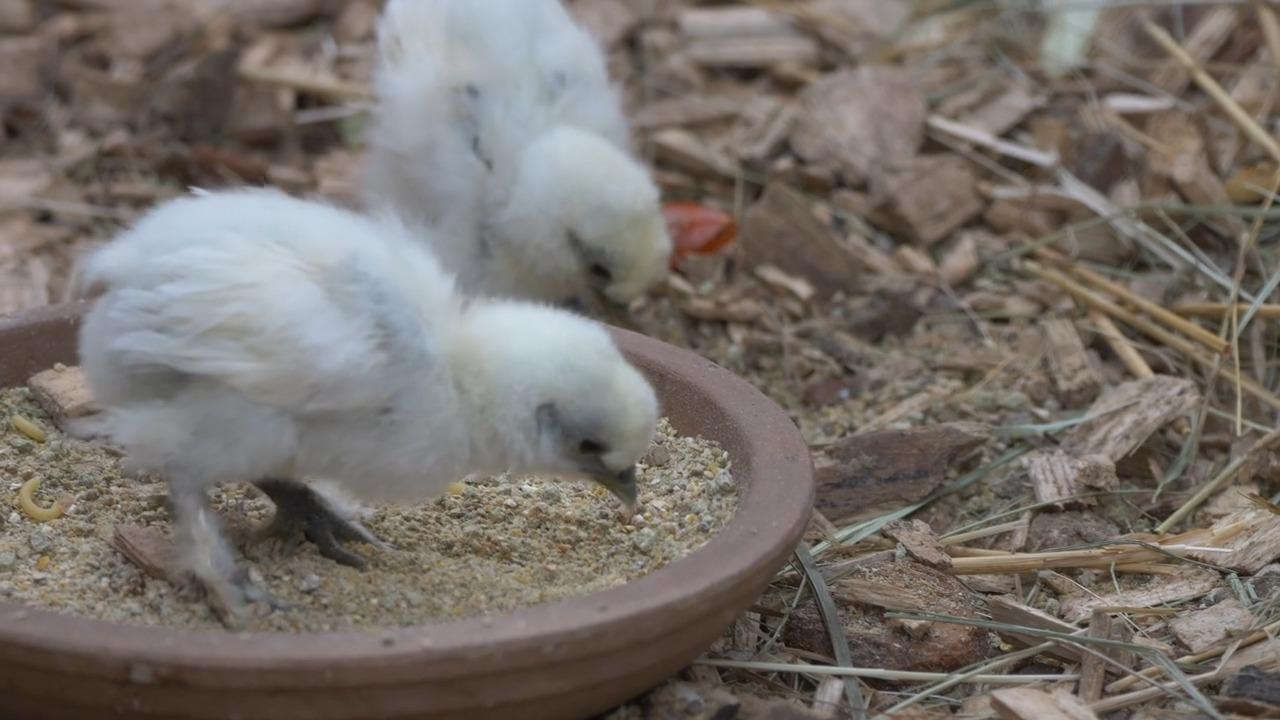Normal: (60, 185, 660, 588), (330, 7, 692, 334)
